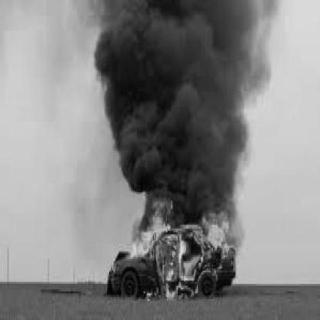Fire: (128, 200, 234, 298)
Smoke: (78, 1, 270, 200)
